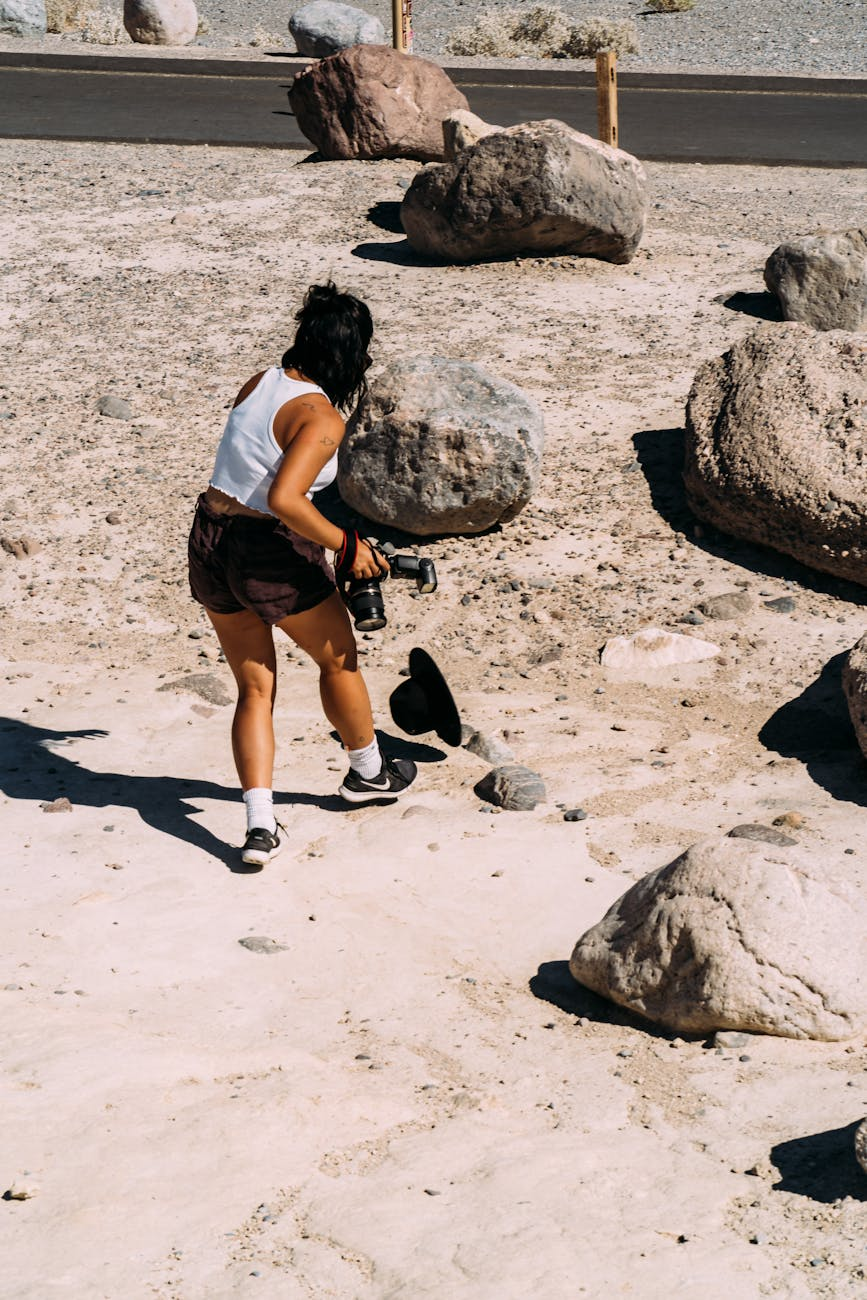shorts: (185, 499, 371, 622)
sleeveless_top: (208, 362, 352, 510)
